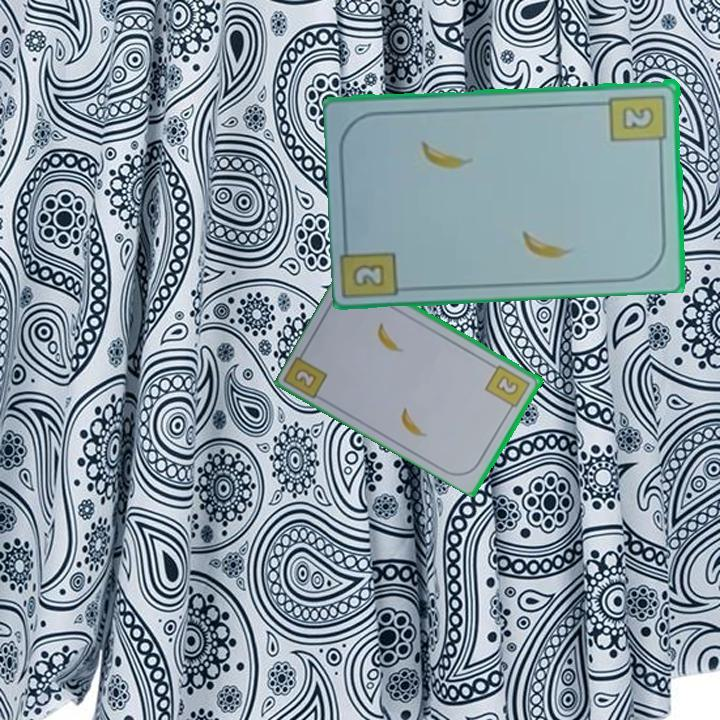2b: (607, 90, 670, 152), (482, 361, 533, 415), (349, 260, 388, 290), (291, 365, 320, 392)
